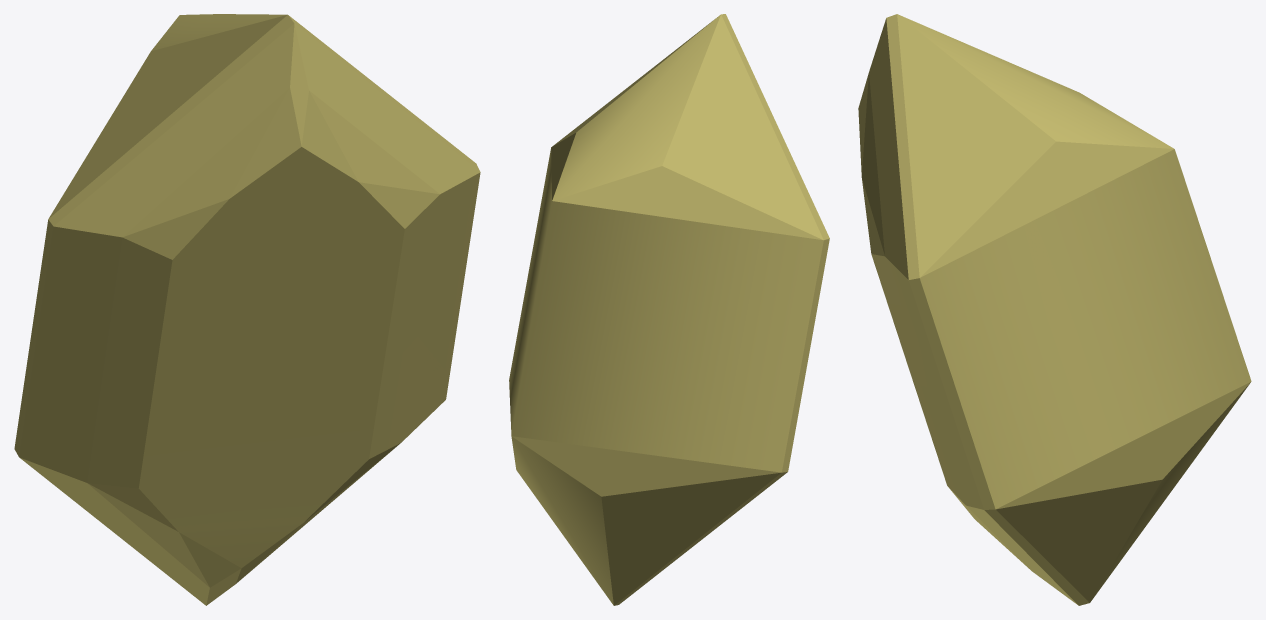
Rendered from BL1_8shapes_Hex_Classic_Stone.001 3.glb.
The picture shows the model from 3 angles, left to right: view 1: azimuth 30°, elevation 25°; view 2: azimuth 150°, elevation 25°; view 3: azimuth 270°, elevation 25°; orthographic projection. The views are drawn at different scales.
Visible parts, largest first — view 1: BL1_8shapes_Hex_Classic_Stone.001; view 2: BL1_8shapes_Hex_Classic_Stone.001; view 3: BL1_8shapes_Hex_Classic_Stone.001.
Boxes of the visible parts, x1,y1,x2,y2 form: BL1_8shapes_Hex_Classic_Stone.001: [14, 14, 480, 605]; BL1_8shapes_Hex_Classic_Stone.001: [509, 14, 829, 605]; BL1_8shapes_Hex_Classic_Stone.001: [858, 14, 1251, 605].
Size of the model in its own units: 0.3693 by 0.6 by 0.3674.
